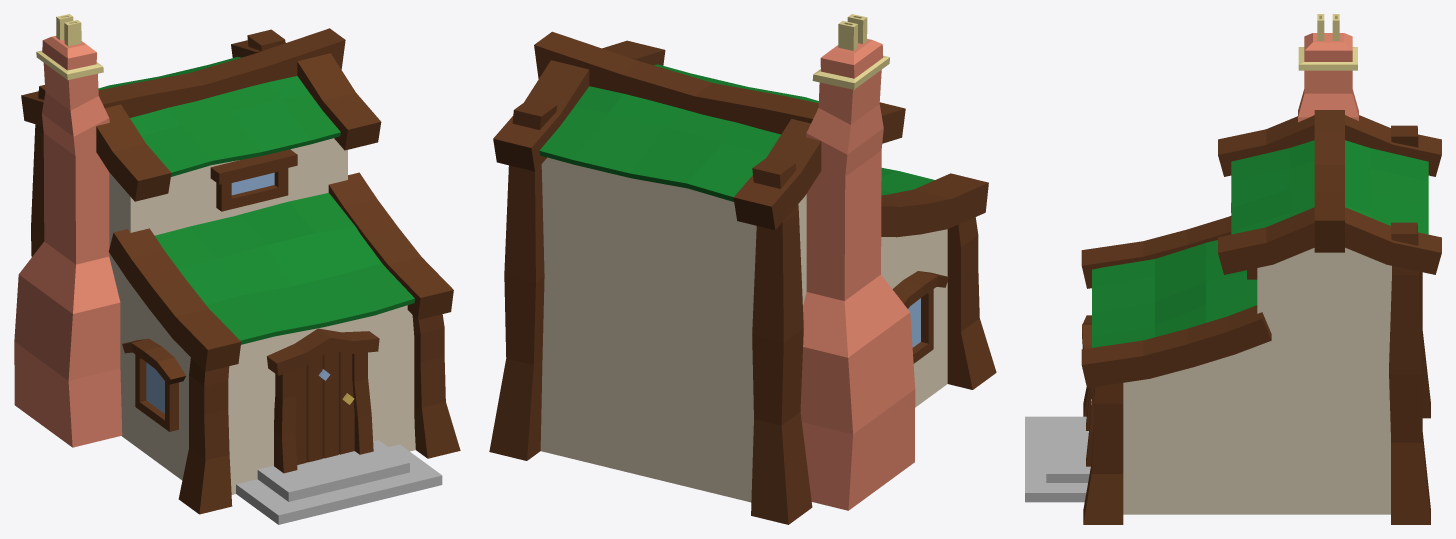
File: house_03.fbx
3 views of the same model, side by side, from view 1: azimuth 30°, elevation 25°; view 2: azimuth 150°, elevation 25°; view 3: azimuth 270°, elevation 25° (orthographic). The views are drawn at different scales.
Parts seen in each view (by area): view 1: chimney.002, Cube.027, Plane.004, Cube.030, Plane.005, Cube.028, Cube.007, Cube.010, Plane.007, Cube.038, Cube.036, Cube.039 (+6 smaller); view 2: Cube.027, chimney.002, Cube.029, Plane.005, Cube.007, Cube.010, Cube.028, Cube.030, Cube.031, Cube.040, Plane.004; view 3: Cube.027, Cube.007, Plane.005, Plane.004, Cube.030, Cube.029, Cube.028, chimney.002, Cube.010, Cube.038, Cube.036, Cube.039.
Boxes of the visible parts, <box> form: chimney.002: <box>14,14,122,447</box>; Cube.027: <box>109,138,415,494</box>; Plane.004: <box>155,193,414,344</box>; Cube.030: <box>108,172,453,371</box>; Plane.005: <box>98,57,340,176</box>; Cube.028: <box>178,314,460,514</box>; Cube.007: <box>21,40,381,201</box>; Cube.010: <box>98,28,345,117</box>; Plane.007: <box>295,350,354,464</box>; Cube.038: <box>236,444,442,524</box>; Cube.036: <box>257,440,409,501</box>; Cube.039: <box>274,352,373,473</box>; Cube.027: <box>540,157,947,502</box>; chimney.002: <box>800,14,915,510</box>; Cube.029: <box>489,98,812,524</box>; Plane.005: <box>539,64,818,201</box>; Cube.007: <box>493,40,905,230</box>; Cube.010: <box>534,31,818,134</box>; Cube.028: <box>947,217,996,389</box>; Cube.030: <box>881,173,988,237</box>; Cube.031: <box>908,289,933,363</box>; Cube.040: <box>892,271,948,308</box>; Plane.004: <box>881,168,934,195</box>; Cube.027: <box>1123,247,1391,514</box>; Cube.007: <box>1218,115,1441,274</box>; Plane.005: <box>1231,140,1428,234</box>; Plane.004: <box>1092,240,1257,347</box>; Cube.030: <box>1081,216,1271,387</box>; Cube.029: <box>1389,125,1430,524</box>; Cube.028: <box>1083,383,1123,524</box>; chimney.002: <box>1298,14,1358,122</box>; Cube.010: <box>1314,110,1344,252</box>; Cube.038: <box>1025,416,1087,502</box>; Cube.036: <box>1046,417,1090,482</box>; Cube.039: <box>1086,387,1094,466</box>.
Bounding box in the file's own units: 217 × 281 × 276.
